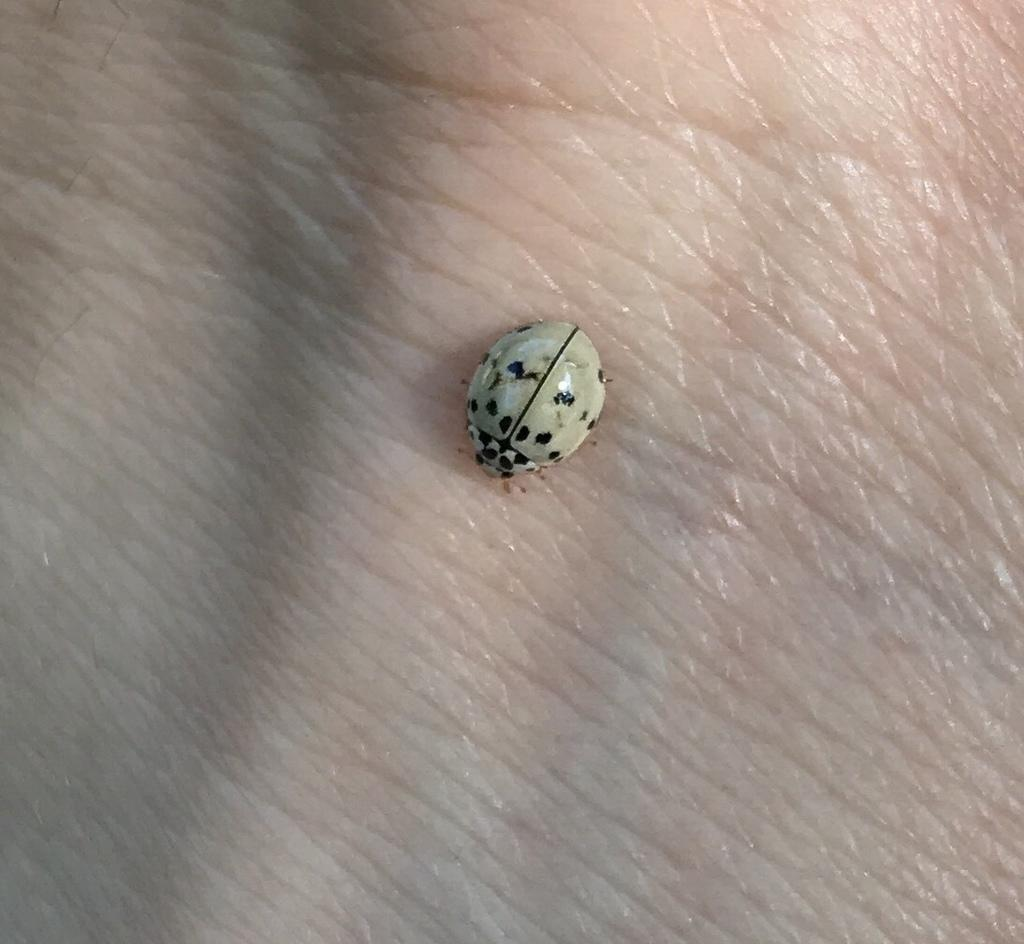ladybug: (456, 316, 616, 501)
